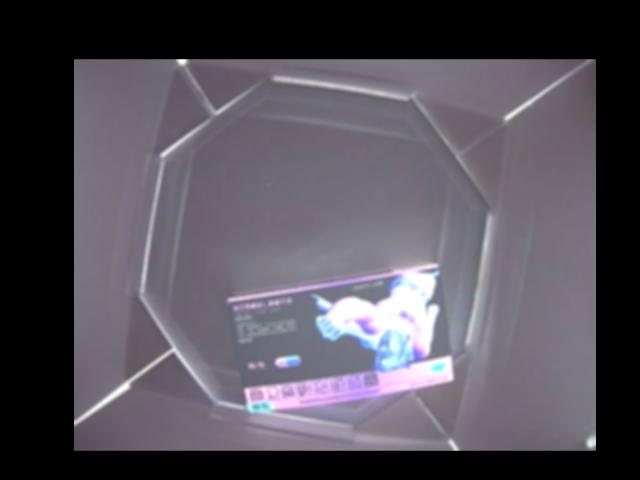Medicine: (226, 263, 456, 414)
